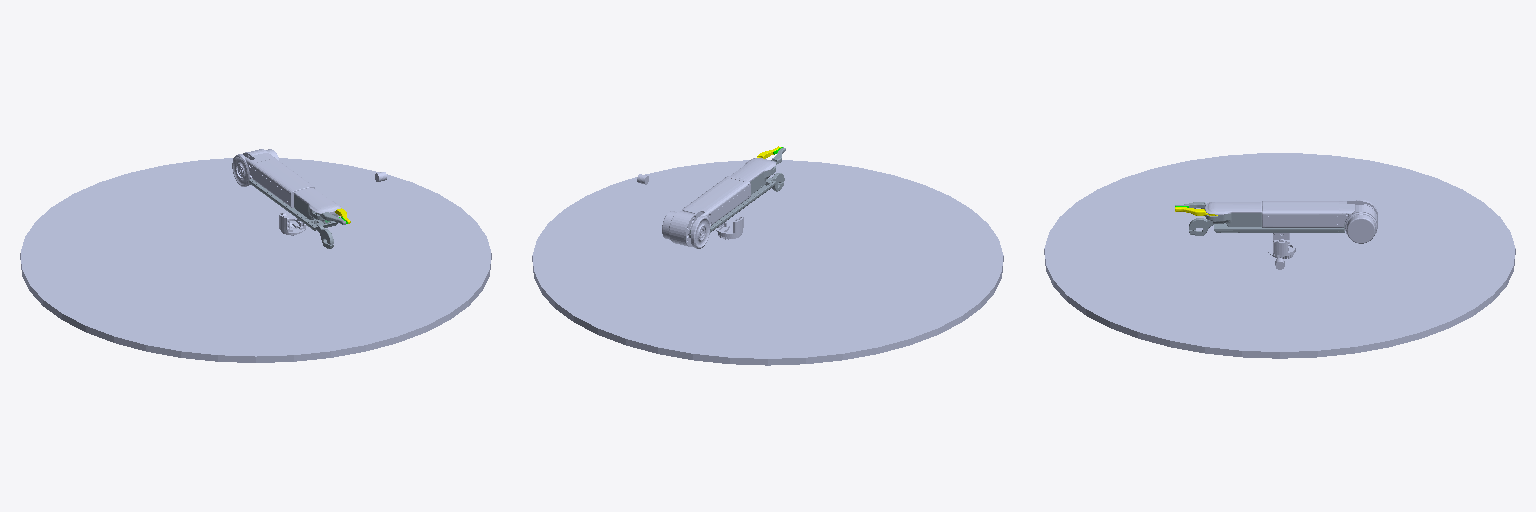
URDF robot description (00_r50_arm_2_7_asm_090519.SLDASM):
<?xml version="1.0" encoding="utf-8"?>
<!-- This URDF was automatically created by SolidWorks to URDF Exporter! Originally created by Stephen Brawner (brawner@gmail.com) 
     Commit Version: 1.6.0-4-g7f85cfe  Build Version: 1.6.7995.38578
     For more information, please see http://wiki.ros.org/sw_urdf_exporter -->
<robot
  name="00_r50_arm_2_7_asm_090519.SLDASM">
  <link
    name="base_link">
    <inertial>
      <origin
        xyz="3.24164402938151E-18 0 -0.004"
        rpy="0 0 0" />
      <mass
        value="1.67684077148422" />
      <inertia
        ixx="0.0279783849570223"
        ixy="2.13636577824663E-34"
        ixz="-1.37288964807816E-36"
        iyy="0.0279783849570223"
        iyz="-3.34803611209534E-36"
        izz="0.0559388836124821" />
    </inertial>
    <visual>
      <origin
        xyz="0 0 0"
        rpy="0 0 0" />
      <geometry>
        <mesh
          filename="package://00_r50_arm_2_7_asm_090519.SLDASM/meshes/base_link.STL" />
      </geometry>
      <material
        name="">
        <color
          rgba="0.792156862745098 0.819607843137255 0.933333333333333 1" />
      </material>
    </visual>
    <collision>
      <origin
        xyz="0 0 0"
        rpy="0 0 0" />
      <geometry>
        <mesh
          filename="package://00_r50_arm_2_7_asm_090519.SLDASM/meshes/base_link.STL" />
      </geometry>
    </collision>
  </link>
  <link
    name="M0_chassis_link">
    <inertial>
      <origin
        xyz="0.00136577570445679 0.00457614464386958 0.050865910554472"
        rpy="0 0 0" />
      <mass
        value="0.562993295418594" />
      <inertia
        ixx="0.00571122448428108"
        ixy="-9.86810579767184E-05"
        ixz="-7.73193820500621E-05"
        iyy="0.00446519695859846"
        iyz="4.01631006535942E-05"
        izz="0.00995139177692554" />
    </inertial>
    <visual>
      <origin
        xyz="0 0 0"
        rpy="0 0 0" />
      <geometry>
        <mesh
          filename="package://00_r50_arm_2_7_asm_090519.SLDASM/meshes/M0_chassis_link.STL" />
      </geometry>
      <material
        name="">
        <color
          rgba="0.792156862745098 0.819607843137255 0.933333333333333 1" />
      </material>
    </visual>
    <collision>
      <origin
        xyz="0 0 0"
        rpy="0 0 0" />
      <geometry>
        <mesh
          filename="package://00_r50_arm_2_7_asm_090519.SLDASM/meshes/M0_chassis_link.STL" />
      </geometry>
    </collision>
  </link>
  <joint
    name="M0"
    type="continuous">
    <origin
      xyz="0 0 0"
      rpy="0 0 0" />
    <parent
      link="base_link" />
    <child
      link="M0_chassis_link" />
    <axis
      xyz="0 0 1" />
    <limit
      lower="-3.1416"
      upper="3.1416"
      effort="0"
      velocity="0" />
  </joint>
  <link
    name="M1_waist_link">
    <inertial>
      <origin
        xyz="-0.000668865369367741 -0.000622305190232215 0.0130167406772163"
        rpy="0 0 0" />
      <mass
        value="0.00497400390264145" />
      <inertia
        ixx="5.845779447197E-07"
        ixy="-8.84533844390089E-09"
        ixz="-4.78809964639897E-09"
        iyy="3.1638362617472E-07"
        iyz="-2.27222918559143E-09"
        izz="6.05508997506684E-07" />
    </inertial>
    <visual>
      <origin
        xyz="0 0 0"
        rpy="0 0 0" />
      <geometry>
        <mesh
          filename="package://00_r50_arm_2_7_asm_090519.SLDASM/meshes/M1_waist_link.STL" />
      </geometry>
      <material
        name="">
        <color
          rgba="0.792156862745098 0.819607843137255 0.933333333333333 1" />
      </material>
    </visual>
    <collision>
      <origin
        xyz="0 0 0"
        rpy="0 0 0" />
      <geometry>
        <mesh
          filename="package://00_r50_arm_2_7_asm_090519.SLDASM/meshes/M1_waist_link.STL" />
      </geometry>
    </collision>
  </link>
  <joint
    name="M1"
    type="revolute">
    <origin
      xyz="0.0475 0.002 0.015"
      rpy="0 0 -1.5708" />
    <parent
      link="M0_chassis_link" />
    <child
      link="M1_waist_link" />
    <axis
      xyz="0 0 1" />
    <limit
      lower="0"
      upper="1.57"
      effort="0"
      velocity="0" />
  </joint>
  <link
    name="M2_Aarm_link">
    <inertial>
      <origin
        xyz="0.0601508529134251 0.00123665391424775 0.00188438794798542"
        rpy="0 0 0" />
      <mass
        value="0.0335589548894408" />
      <inertia
        ixx="3.81265450953842E-06"
        ixy="1.26283511463203E-06"
        ixz="-7.89506323755863E-07"
        iyy="2.09105856881561E-05"
        iyz="2.9593626101945E-07"
        izz="1.82970866819242E-05" />
    </inertial>
    <visual>
      <origin
        xyz="0 0 0"
        rpy="0 0 0" />
      <geometry>
        <mesh
          filename="package://00_r50_arm_2_7_asm_090519.SLDASM/meshes/M2_Aarm_link.STL" />
      </geometry>
      <material
        name="">
        <color
          rgba="1 0.447058823529412 0 1" />
      </material>
    </visual>
    <collision>
      <origin
        xyz="0 0 0"
        rpy="0 0 0" />
      <geometry>
        <mesh
          filename="package://00_r50_arm_2_7_asm_090519.SLDASM/meshes/M2_Aarm_link.STL" />
      </geometry>
    </collision>
  </link>
  <joint
    name="M2"
    type="revolute">
    <origin
      xyz="0 -0.000300000000000002 0.0248"
      rpy="0 0 0" />
    <parent
      link="M1_waist_link" />
    <child
      link="M2_Aarm_link" />
    <axis
      xyz="0 -1 0" />
    <limit
      lower="0"
      upper="1.57"
      effort="0"
      velocity="0" />
  </joint>
  <link
    name="M3_Barm_link">
    <inertial>
      <origin
        xyz="-0.0873350487257374 0.00602631355894911 0.00831812874509527"
        rpy="0 0 0" />
      <mass
        value="0.0169313899121356" />
      <inertia
        ixx="1.62078716548508E-06"
        ixy="5.54136544325576E-09"
        ixz="1.35955447205471E-06"
        iyy="5.08397363816854E-05"
        iyz="3.05696282513903E-08"
        izz="5.20715378455312E-05" />
    </inertial>
    <visual>
      <origin
        xyz="0 0 0"
        rpy="0 0 0" />
      <geometry>
        <mesh
          filename="package://00_r50_arm_2_7_asm_090519.SLDASM/meshes/M3_Barm_link.STL" />
      </geometry>
      <material
        name="">
        <color
          rgba="0.631372549019608 0.686274509803922 0.749019607843137 1" />
      </material>
    </visual>
    <collision>
      <origin
        xyz="0 0 0"
        rpy="0 0 0" />
      <geometry>
        <mesh
          filename="package://00_r50_arm_2_7_asm_090519.SLDASM/meshes/M3_Barm_link.STL" />
      </geometry>
    </collision>
  </link>
  <joint
    name="M3"
    type="revolute">
    <origin
      xyz="0.09035 -0.0084 0.00639"
      rpy="0 0 0" />
    <parent
      link="M2_Aarm_link" />
    <child
      link="M3_Barm_link" />
    <axis
      xyz="0 1 0" />
    <limit
      lower="0"
      upper="4.7116"
      effort="0"
      velocity="0" />
  </joint>
  <link
    name="M4_Carm_link">
    <inertial>
      <origin
        xyz="0.0404507901463028 0.00869643107529672 0.00532119347306536"
        rpy="0 0 0" />
      <mass
        value="0.0414242498680461" />
      <inertia
        ixx="3.96135602317047E-06"
        ixy="-1.82754946388271E-06"
        ixz="-1.31594507533417E-06"
        iyy="3.86803433863594E-05"
        iyz="-1.97013084572357E-07"
        izz="3.73675727833538E-05" />
    </inertial>
    <visual>
      <origin
        xyz="0 0 0"
        rpy="0 0 0" />
      <geometry>
        <mesh
          filename="package://00_r50_arm_2_7_asm_090519.SLDASM/meshes/M4_Carm_link.STL" />
      </geometry>
      <material
        name="">
        <color
          rgba="0.792156862745098 0.819607843137255 0.933333333333333 1" />
      </material>
    </visual>
    <collision>
      <origin
        xyz="0 0 0"
        rpy="0 0 0" />
      <geometry>
        <mesh
          filename="package://00_r50_arm_2_7_asm_090519.SLDASM/meshes/M4_Carm_link.STL" />
      </geometry>
    </collision>
  </link>
  <joint
    name="M4"
    type="revolute">
    <origin
      xyz="-0.17735 0 0.01428"
      rpy="0 0 0" />
    <parent
      link="M3_Barm_link" />
    <child
      link="M4_Carm_link" />
    <axis
      xyz="0 -1 0" />
    <limit
      lower="0"
      upper="3.1416"
      effort="0"
      velocity="0" />
  </joint>
  <link
    name="M5_wrist_link">
    <inertial>
      <origin
        xyz="0.0315265657461829 0.00193576384099629 -0.00200191219166715"
        rpy="0 0 0" />
      <mass
        value="0.00872729923914655" />
      <inertia
        ixx="7.96067753682824E-07"
        ixy="-1.02128789144519E-07"
        ixz="-3.50715522753616E-08"
        iyy="4.19286631749308E-06"
        iyz="8.90328348932758E-09"
        izz="4.79555749529131E-06" />
    </inertial>
    <visual>
      <origin
        xyz="0 0 0"
        rpy="0 0 0" />
      <geometry>
        <mesh
          filename="package://00_r50_arm_2_7_asm_090519.SLDASM/meshes/M5_wrist_link.STL" />
      </geometry>
      <material
        name="">
        <color
          rgba="0.631372549019608 0.686274509803922 0.749019607843137 1" />
      </material>
    </visual>
    <collision>
      <origin
        xyz="0 0 0"
        rpy="0 0 0" />
      <geometry>
        <mesh
          filename="package://00_r50_arm_2_7_asm_090519.SLDASM/meshes/M5_wrist_link.STL" />
      </geometry>
    </collision>
  </link>
  <joint
    name="M5"
    type="revolute">
    <origin
      xyz="0.10124419863928 0.00720000000000399 0.0085050660083681"
      rpy="0 -3.49065850770887E-05 0" />
    <parent
      link="M4_Carm_link" />
    <child
      link="M5_wrist_link" />
    <axis
      xyz="1 0 0" />
    <limit
      lower="0"
      upper="4.1866"
      effort="0"
      velocity="0" />
  </joint>
  <link
    name="M6_1_leftfinger_link">
    <inertial>
      <origin
        xyz="0.013982 0.00051741 0.0015711"
        rpy="0 0 0" />
      <mass
        value="0.0014426" />
      <inertia
        ixx="1.4899E-08"
        ixy="1.1217E-08"
        ixz="-6.9674E-09"
        iyy="1.8611E-07"
        iyz="2.4355E-10"
        izz="1.962E-07" />
    </inertial>
    <visual>
      <origin
        xyz="0 0 0"
        rpy="0 0 0" />
      <geometry>
        <mesh
          filename="package://00_r50_arm_2_7_asm_090519.SLDASM/meshes/M6_1_leftfinger_link.STL" />
      </geometry>
      <material
        name="">
        <color
          rgba="1 1 0 1" />
      </material>
    </visual>
    <collision>
      <origin
        xyz="0 0 0"
        rpy="0 0 0" />
      <geometry>
        <mesh
          filename="package://00_r50_arm_2_7_asm_090519.SLDASM/meshes/M6_1_leftfinger_link.STL" />
      </geometry>
    </collision>
  </link>
  <joint
    name="M6_1"
    type="revolute">
    <origin
      xyz="0.0605 0.010481 0.0041935"
      rpy="0 -4.3588E-05 -0.067803" />
    <parent
      link="M5_wrist_link" />
    <child
      link="M6_1_leftfinger_link" />
    <axis
      xyz="0 0.00063951 1" />
    <limit
      lower="0"
      upper="1.05"
      effort="0"
      velocity="0" />
  </joint>
  <link
    name="M6_1_1_LINK">
    <inertial>
      <origin
        xyz="-0.00764458572106805 0.000589340705618953 0.00064972552314535"
        rpy="0 0 0" />
      <mass
        value="8.71079009688527E-05" />
      <inertia
        ixx="1.24189663706984E-10"
        ixy="1.31251874982644E-10"
        ixz="-5.36166964307191E-14"
        iyy="1.60719468407998E-09"
        iyz="5.76573046208739E-15"
        izz="1.55996325740076E-09" />
    </inertial>
    <visual>
      <origin
        xyz="0 0 0"
        rpy="0 0 0" />
      <geometry>
        <mesh
          filename="package://00_r50_arm_2_7_asm_090519.SLDASM/meshes/M6_1_1_LINK.STL" />
      </geometry>
      <material
        name="">
        <color
          rgba="0 1 0 1" />
      </material>
    </visual>
    <collision>
      <origin
        xyz="0 0 0"
        rpy="0 0 0" />
      <geometry>
        <mesh
          filename="package://00_r50_arm_2_7_asm_090519.SLDASM/meshes/M6_1_1_LINK.STL" />
      </geometry>
    </collision>
  </link>
  <joint
    name="M6_1_1"
    type="fixed">
    <origin
      xyz="0.043017 -0.0046936 0.0022627"
      rpy="-0.00063804 7.8234E-05 0.067803" />
    <parent
      link="M6_1_leftfinger_link" />
    <child
      link="M6_1_1_LINK" />
    <axis
      xyz="0 0 0" />
  </joint>
  <link
    name="M6_2_rightfinger_link">
    <inertial>
      <origin
        xyz="0.0143565123042391 0.000729830683731197 0.00156306392377183"
        rpy="0 0 0" />
      <mass
        value="0.00141318592696523" />
      <inertia
        ixx="1.75562373535465E-08"
        ixy="-2.39465037947659E-08"
        ixz="-6.5921961397348E-09"
        iyy="1.6887774999712E-07"
        iyz="-7.77287835987433E-10"
        izz="1.81649658712025E-07" />
    </inertial>
    <visual>
      <origin
        xyz="0 0 0"
        rpy="0 0 0" />
      <geometry>
        <mesh
          filename="package://00_r50_arm_2_7_asm_090519.SLDASM/meshes/M6_2_rightfinger_link.STL" />
      </geometry>
      <material
        name="">
        <color
          rgba="0.631372549019608 0.686274509803922 0.749019607843137 1" />
      </material>
    </visual>
    <collision>
      <origin
        xyz="0 0 0"
        rpy="0 0 0" />
      <geometry>
        <mesh
          filename="package://00_r50_arm_2_7_asm_090519.SLDASM/meshes/M6_2_rightfinger_link.STL" />
      </geometry>
    </collision>
  </link>
  <joint
    name="M6_2_rightfinger"
    type="revolute">
    <origin
      xyz="0.0605 -0.0056192 0.0042038"
      rpy="0 -1.1228E-05 -0.017453" />
    <parent
      link="M5_wrist_link" />
    <child
      link="M6_2_rightfinger_link" />
    <axis
      xyz="-4.6129E-05 0 -1" />
    <limit
      lower="0"
      upper="1.05"
      effort="0"
      velocity="0" />
  </joint>
  <link
    name="M6_2_2_LINK">
    <inertial>
      <origin
        xyz="-0.00764458574864088 -0.000589340362462359 0.000649740782284747"
        rpy="0 0 0" />
      <mass
        value="8.71079009790298E-05" />
      <inertia
        ixx="1.24189651423148E-10"
        ixy="-1.31251808542914E-10"
        ixz="-4.66192794879574E-14"
        iyy="1.60719469609687E-09"
        iyz="-3.39740566350106E-15"
        izz="1.55996325817844E-09" />
    </inertial>
    <visual>
      <origin
        xyz="0 0 0"
        rpy="0 0 0" />
      <geometry>
        <mesh
          filename="package://00_r50_arm_2_7_asm_090519.SLDASM/meshes/M6_2_2_LINK.STL" />
      </geometry>
      <material
        name="">
        <color
          rgba="0 1 0 1" />
      </material>
    </visual>
    <collision>
      <origin
        xyz="0 0 0"
        rpy="0 0 0" />
      <geometry>
        <mesh
          filename="package://00_r50_arm_2_7_asm_090519.SLDASM/meshes/M6_2_2_LINK.STL" />
      </geometry>
    </collision>
  </link>
  <joint
    name="M6_2_2"
    type="fixed">
    <origin
      xyz="0.042461 0.0083424 0.0022543"
      rpy="-0.00064255 4.6122E-05 0.017453" />
    <parent
      link="M6_2_rightfinger_link" />
    <child
      link="M6_2_2_LINK" />
    <axis
      xyz="0 0 0" />
  </joint>
  <link
    name="gripper_link">
    <inertial>
      <origin
        xyz="-0.0303650548002333 0.000104933366119137 0.00427352567522586"
        rpy="0 0 0" />
      <mass
        value="0.00251626877406126" />
      <inertia
        ixx="1.58777982864623E-07"
        ixy="-1.17682733893433E-08"
        ixz="1.29992025760309E-08"
        iyy="8.52340945305528E-07"
        iyz="4.08791469905171E-10"
        izz="1.00339851859812E-06" />
    </inertial>
    <visual>
      <origin
        xyz="0 0 0"
        rpy="0 0 0" />
      <geometry>
        <mesh
          filename="package://00_r50_arm_2_7_asm_090519.SLDASM/meshes/gripper_link.STL" />
      </geometry>
      <material
        name="">
        <color
          rgba="0.792156862745098 0.819607843137255 0.933333333333333 1" />
      </material>
    </visual>
    <collision>
      <origin
        xyz="0 0 0"
        rpy="0 0 0" />
      <geometry>
        <mesh
          filename="package://00_r50_arm_2_7_asm_090519.SLDASM/meshes/gripper_link.STL" />
      </geometry>
    </collision>
  </link>
  <joint
    name="gripper"
    type="fixed">
    <origin
      xyz="0.0697860659171 0.00243212529928823 0.00414866081772022"
      rpy="-0.000643350580411366 3.49065850770886E-05 0" />
    <parent
      link="M5_wrist_link" />
    <child
      link="gripper_link" />
    <axis
      xyz="0 0 0" />
  </joint>
  <link
    name="camera_Link">
    <inertial>
      <origin
        xyz="1.38777878078145E-17 -2.77555756156289E-17 -0.000499999999999987"
        rpy="0 0 0" />
      <mass
        value="5.02654824574367E-05" />
      <inertia
        ixx="2.05250720034535E-10"
        ixy="6.23400632935311E-25"
        ixz="-1.82752530392498E-27"
        iyy="2.05250720034533E-10"
        iyz="4.24028513774137E-26"
        izz="4.02123859659495E-10" />
    </inertial>
    <visual>
      <origin
        xyz="0 0 0"
        rpy="0 0 0" />
      <geometry>
        <mesh
          filename="package://00_r50_arm_2_7_asm_090519.SLDASM/meshes/camera_Link.STL" />
      </geometry>
      <material
        name="">
        <color
          rgba="0.427450980392157 0.749019607843137 0.592156862745098 1" />
      </material>
    </visual>
    <collision>
      <origin
        xyz="0 0 0"
        rpy="0 0 0" />
      <geometry>
        <mesh
          filename="package://00_r50_arm_2_7_asm_090519.SLDASM/meshes/camera_Link.STL" />
      </geometry>
    </collision>
  </link>
  <joint
    name="camera"
    type="fixed">
    <origin
      xyz="0.061399999999997 0.00242611169774409 -0.00515133723805639"
      rpy="-1.5707963267949 0 -1.5707963267949" />
    <parent
      link="M5_wrist_link" />
    <child
      link="camera_Link" />
    <axis
      xyz="0 0 0" />
  </joint>
  <link
    name="tof_axis">
    <inertial>
      <origin
        xyz="2.65966146459508E-19 -0.005 0"
        rpy="0 0 0" />
      <mass
        value="0.000785398163397449" />
      <inertia
        ixx="1.14537232162128E-08"
        ixy="3.58732406867153E-41"
        ixz="-3.74939945665465E-41"
        iyy="9.81747704246811E-09"
        iyz="-3.79439225013451E-41"
        izz="1.14537232162128E-08" />
    </inertial>
    <visual>
      <origin
        xyz="0 0 0"
        rpy="0 0 0" />
      <geometry>
        <mesh
          filename="package://00_r50_arm_2_7_asm_090519.SLDASM/meshes/tof_axis.STL" />
      </geometry>
      <material
        name="">
        <color
          rgba="0.792156862745098 0.819607843137255 0.933333333333333 1" />
      </material>
    </visual>
    <collision>
      <origin
        xyz="0 0 0"
        rpy="0 0 0" />
      <geometry>
        <mesh
          filename="package://00_r50_arm_2_7_asm_090519.SLDASM/meshes/tof_axis.STL" />
      </geometry>
    </collision>
  </link>
  <joint
    name="tof"
    type="fixed">
    <origin
      xyz="0.1631 0 0.0599"
      rpy="0 0 -1.5707963267949" />
    <parent
      link="M0_chassis_link" />
    <child
      link="tof_axis" />
    <axis
      xyz="0 0 0" />
  </joint>
</robot>

--- What the picture shows (computed from the rendered views, not written in the file) ---
The picture shows the robot from 3 angles, left to right: view 1: azimuth 30°, elevation 25°; view 2: azimuth 150°, elevation 25°; view 3: azimuth 270°, elevation 25°; orthographic projection.
Robot: 00_r50_arm_2_7_asm_090519.SLDASM — 14 links, 13 joints (7 revolute, 1 continuous, 5 fixed); root link base_link; default pose: all joints at 0.
Visible links, largest first — view 1: base_link, M4_Carm_link, M3_Barm_link, gripper_link; view 2: base_link, M4_Carm_link, M3_Barm_link, gripper_link; view 3: base_link, M4_Carm_link, M3_Barm_link, gripper_link, M5_wrist_link, M1_waist_link.
Boxes of the visible links, box(x1,y1,x2,y2) form: base_link: box(20, 158, 491, 362); M4_Carm_link: box(232, 149, 314, 207); M3_Barm_link: box(249, 179, 337, 248); gripper_link: box(294, 188, 340, 214); base_link: box(532, 160, 1003, 365); M4_Carm_link: box(662, 176, 750, 248); M3_Barm_link: box(690, 173, 784, 237); gripper_link: box(730, 158, 775, 181); base_link: box(1044, 153, 1515, 358); M4_Carm_link: box(1262, 200, 1377, 243); M3_Barm_link: box(1189, 218, 1344, 235); gripper_link: box(1205, 202, 1261, 214); M5_wrist_link: box(1205, 213, 1261, 226); M1_waist_link: box(1268, 233, 1295, 258).
Size in the robot's own frame: 0.5158 by 0.5162 by 0.087 metres.
Meshes: 14 distinct files referenced, 12 mesh visuals loaded (12 binary STL); not drawn: 2 (reference not matched to a file when rendering).
